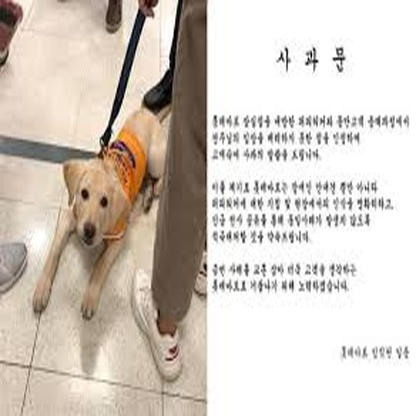guide-dog: (40, 97, 168, 321)
